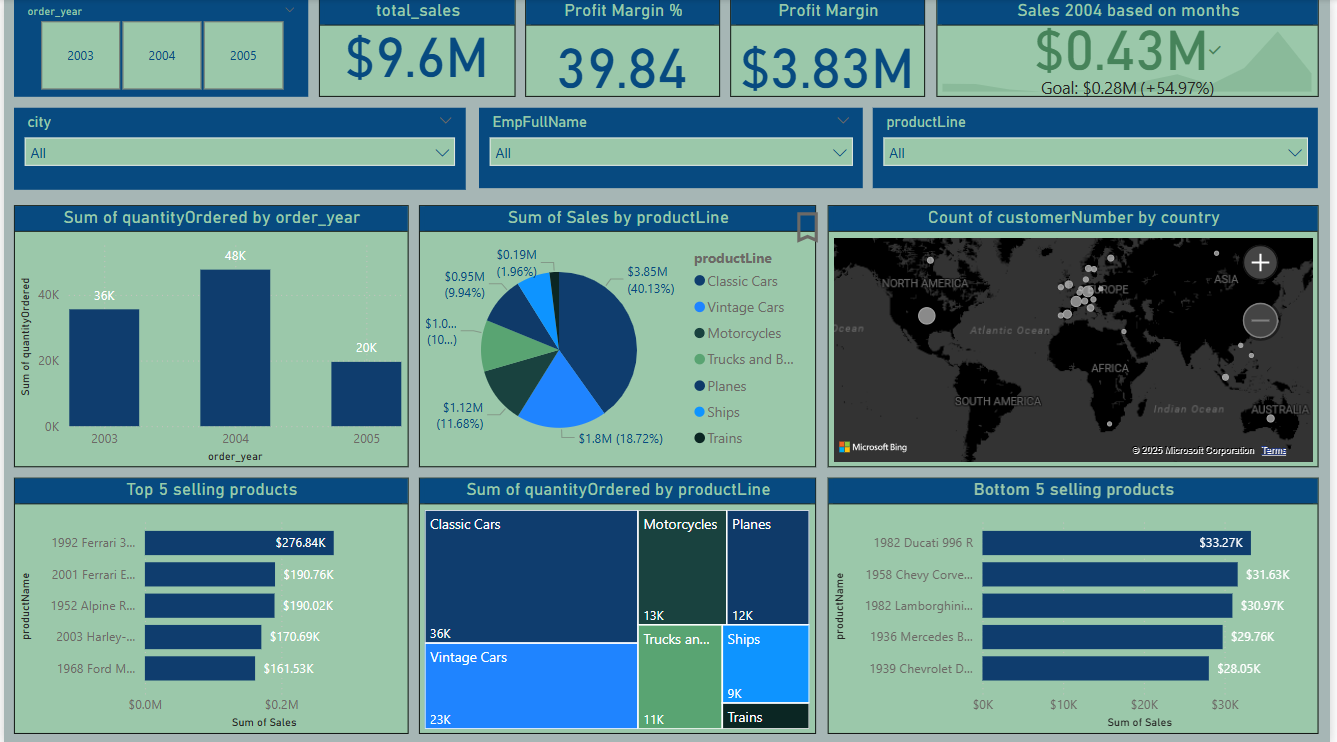

Layout of this report page (visuals, bound fields, positions):
{"tool":"powerbi","page":{"name":"Page 1","canvas":[1280,720],"ordinal":0},"visuals":[{"type":"barChart","title":"Top 5 selling products","fields":{"Category":["products.productName"],"Y":["order details.Sales"]},"box":[9.9,462.5,380.5,247.5],"z":0},{"type":"pieChart","fields":{"Category":["products.productLine"],"Y":["order details.Sales"]},"box":[400.3,199.4,383.3,253.2],"z":1000},{"type":"slicer","fields":{"Values":["orders.order_year"]},"box":[10,0,283.7,94.1],"z":2000},{"type":"kpi","title":"Sales 2004 based on months","fields":{"Goal":["orders.sales_2003"],"TrendLine":["orders.Month Name"],"Indicator":["orders.sales_2004"]},"box":[899.5,0,369.1,94.8],"z":3000},{"type":"map","fields":{"Category":["customers.country"],"Size":["customers.customerNumber"]},"box":[794.9,199.4,473.8,253.2],"z":4000},{"type":"treemap","fields":{"Group":["products.productLine"],"Values":["order details.quantityOrdered"]},"box":[400.3,462.5,383.3,247.5],"z":5000},{"type":"clusteredColumnChart","fields":{"Category":["orders.order_year"],"Y":["order details.quantityOrdered"]},"box":[9.9,199.4,380.5,253.2],"z":6000},{"type":"card","title":"Profit Margin","fields":{"Values":["order details.total_profit"]},"box":[701.3,0,188.2,94.1],"z":7000},{"type":"card","title":"Profit Margin %","fields":{"Values":["products.Profit_margin_%"]},"box":[503.2,0,188.2,94.1],"z":8000},{"type":"slicer","fields":{"Values":["customers.city"]},"box":[9.9,104.7,435.6,79.2],"z":9000},{"type":"slicer","fields":{"Values":["employees.EmpFullName"]},"box":[458.3,104.7,370.6,77.8],"z":10000},{"type":"slicer","fields":{"Values":["products.productLine"]},"box":[838.7,104.7,430,77.8],"z":11000},{"type":"barChart","title":"Bottom 5 selling products","fields":{"Category":["products.productName"],"Y":["order details.Sales"]},"box":[794.9,462.5,473.8,247.5],"z":12000},{"type":"card","title":"total_sales","fields":{"Values":["products.total_sales"]},"box":[304.1,0,189.5,94.8],"z":13000},{"type":"actionButton","box":[756.1,200,38.2,39.7],"z":14000}]}

Visuals, with their boxes in screenshot pixels (x1, y1, x2, y2), scaled from the page's 1280x720 canvas onto the 1337x742 screenshot:
"Top 5 selling products" barChart: rect(10, 477, 408, 732)
pieChart - products.productLine x order details.Sales: rect(418, 205, 818, 466)
slicer - orders.order_year: rect(10, 0, 307, 97)
"Sales 2004 based on months" kpi: rect(940, 0, 1325, 98)
map - customers.country x customers.customerNumber: rect(830, 205, 1325, 466)
treemap - products.productLine x order details.quantityOrdered: rect(418, 477, 818, 732)
clusteredColumnChart - orders.order_year x order details.quantityOrdered: rect(10, 205, 408, 466)
"Profit Margin" card: rect(733, 0, 929, 97)
"Profit Margin %" card: rect(526, 0, 722, 97)
slicer - customers.city: rect(10, 108, 465, 190)
slicer - employees.EmpFullName: rect(479, 108, 866, 188)
slicer - products.productLine: rect(876, 108, 1325, 188)
"Bottom 5 selling products" barChart: rect(830, 477, 1325, 732)
"total_sales" card: rect(318, 0, 516, 98)
actionButton: rect(790, 206, 830, 247)
